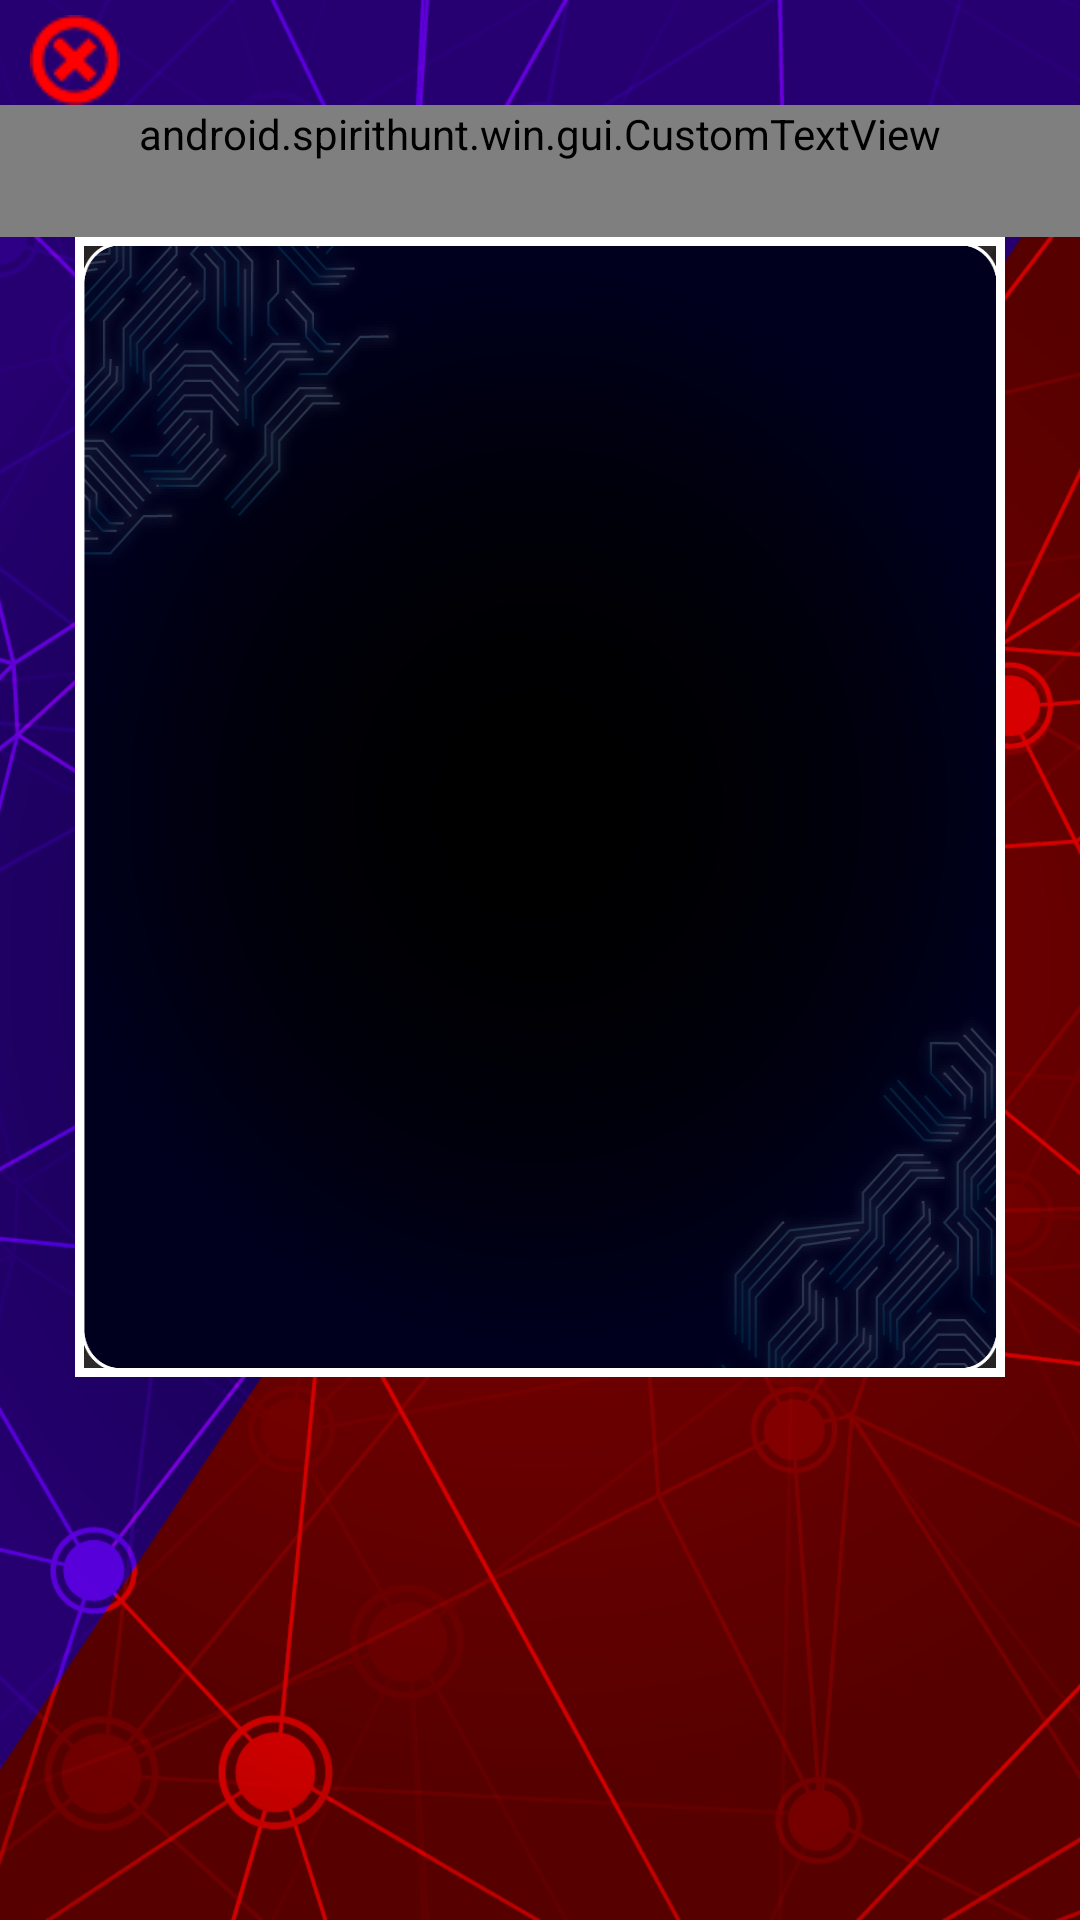

Named icons in this screenshot (1080x1920) and their centers, point (x, y):
exit: point (75, 60)
